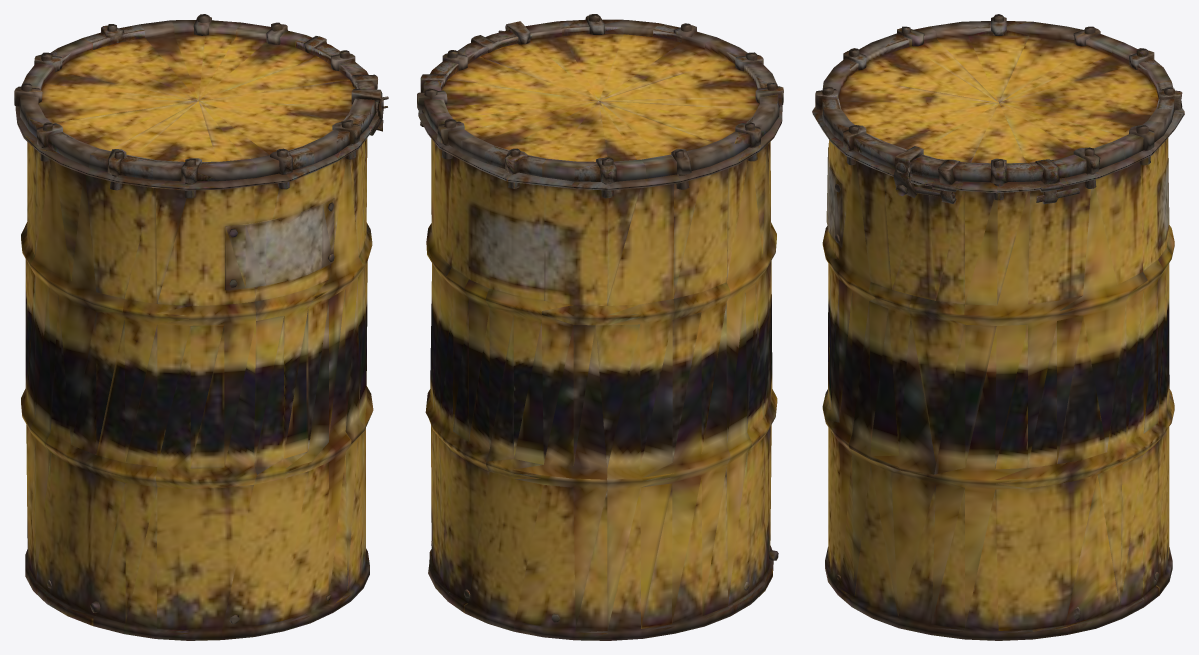
The model's file is reactor-waste-drum.glb.
The picture shows the model from 3 angles, left to right: view 1: azimuth 30°, elevation 25°; view 2: azimuth 150°, elevation 25°; view 3: azimuth 270°, elevation 25°; orthographic projection.
Visible parts, largest first — view 1: reactor-waste-drum; view 2: reactor-waste-drum; view 3: reactor-waste-drum.
Boxes of the visible parts, <box> form: reactor-waste-drum: <box>14,14,388,640</box>; reactor-waste-drum: <box>417,14,783,640</box>; reactor-waste-drum: <box>812,14,1184,640</box>.
Bounding box in the file's own units: 0.6262 × 0.9 × 0.6313.
1 material, 1 textured.
